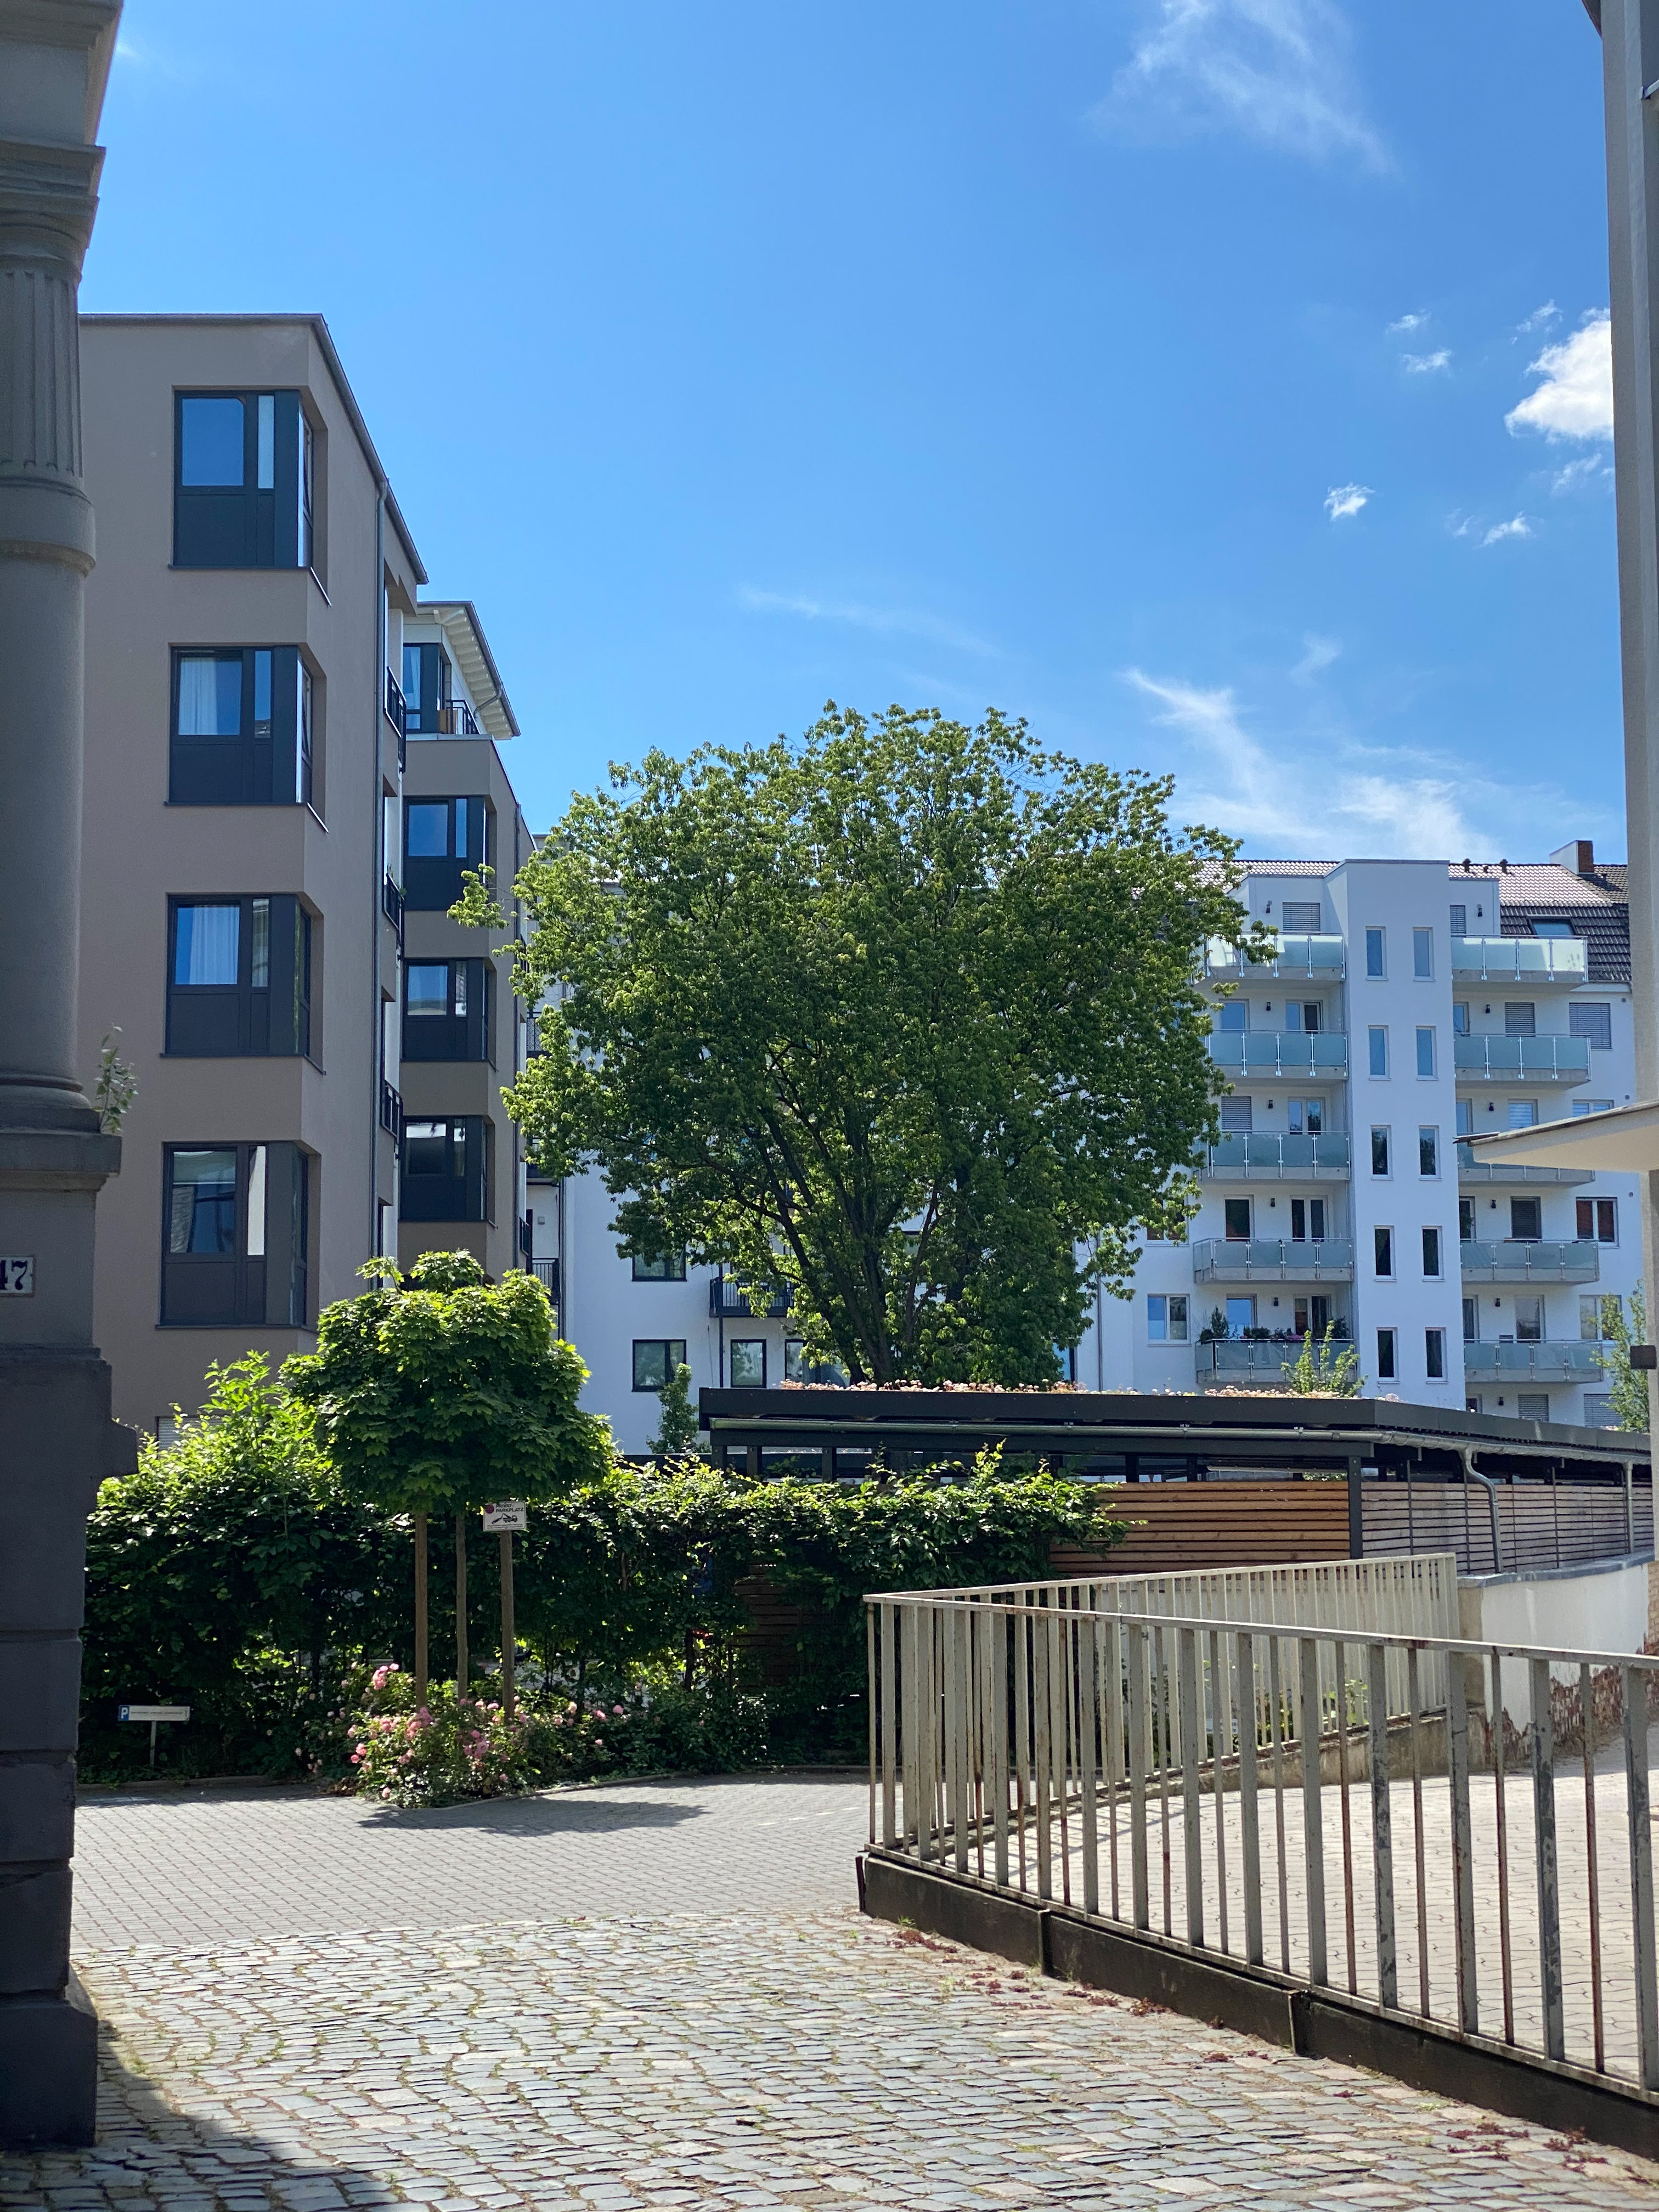tree: (446, 697, 1279, 1383), (282, 1249, 613, 1707)
